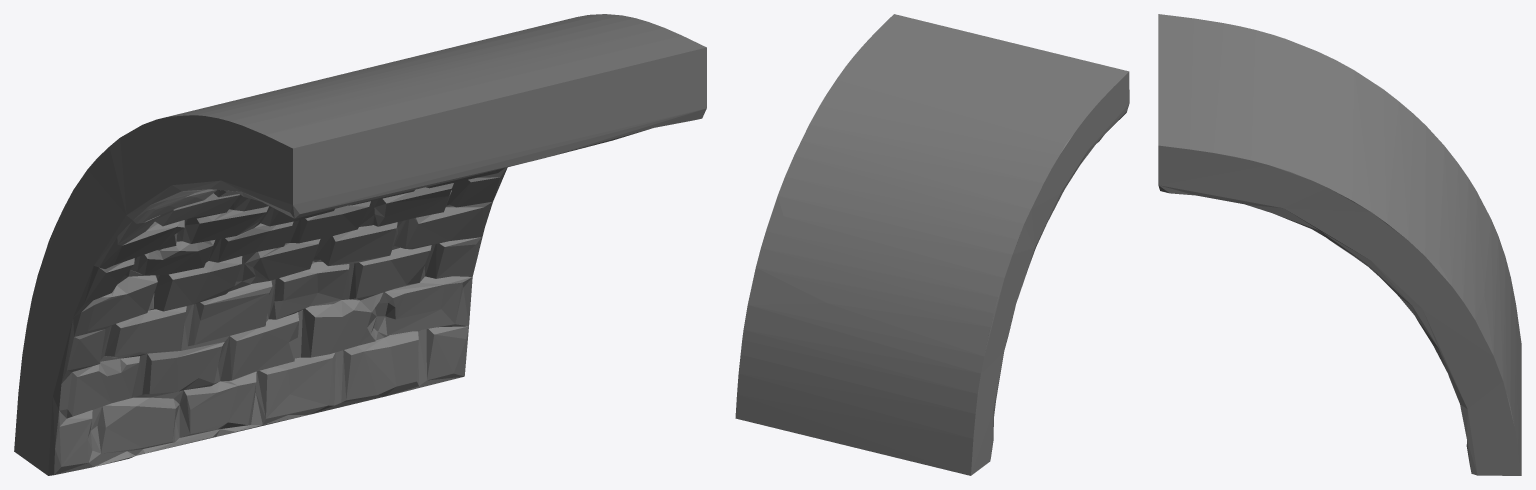
File: modular_wall_arch_3x3m_b.FBX
3 views of the same model, side by side, from view 1: azimuth 30°, elevation 25°; view 2: azimuth 150°, elevation 25°; view 3: azimuth 270°, elevation 25° (orthographic). The views are drawn at different scales.
Parts seen in each view (by area): view 1: modular_wall_arch_3x3m_b; view 2: modular_wall_arch_3x3m_b; view 3: modular_wall_arch_3x3m_b.
Part boxes in pixels (x1,y1,x2,y2): modular_wall_arch_3x3m_b: (14,14,706,475); modular_wall_arch_3x3m_b: (735,14,1129,475); modular_wall_arch_3x3m_b: (1158,14,1521,475).
Size of the model in its own units: 3 by 3.51 by 3.5.
